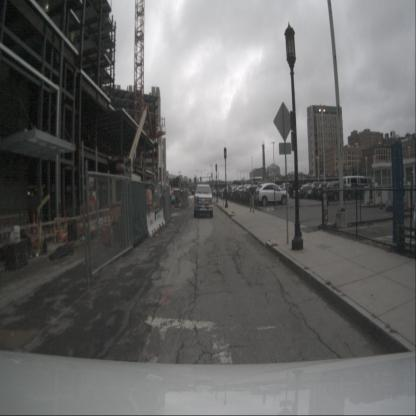human-pedestrian-adult: (249, 180, 255, 214)
movable_object-barrier: (146, 211, 157, 238), (156, 208, 166, 231)
movable_object-trafficcone: (31, 212, 38, 250), (36, 212, 43, 248), (108, 212, 114, 247), (102, 211, 107, 248), (4, 216, 9, 252), (8, 216, 13, 250), (27, 217, 32, 250), (64, 213, 69, 246), (58, 214, 63, 245), (24, 216, 28, 253), (1, 215, 5, 251), (106, 212, 110, 248), (380, 192, 384, 210), (403, 195, 406, 209), (180, 198, 183, 209), (182, 197, 184, 209)
vehicle-car: (255, 183, 290, 205), (326, 180, 351, 199), (341, 176, 366, 194), (243, 186, 268, 204), (317, 183, 337, 200), (293, 184, 314, 199), (305, 186, 325, 200), (237, 189, 256, 202), (234, 186, 250, 199), (230, 187, 245, 199)
vehicle-truck: (194, 184, 213, 218), (350, 178, 376, 200), (222, 186, 239, 199)
